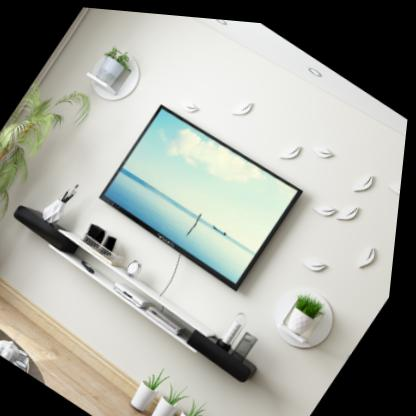TV stand: (0, 170, 298, 389)
